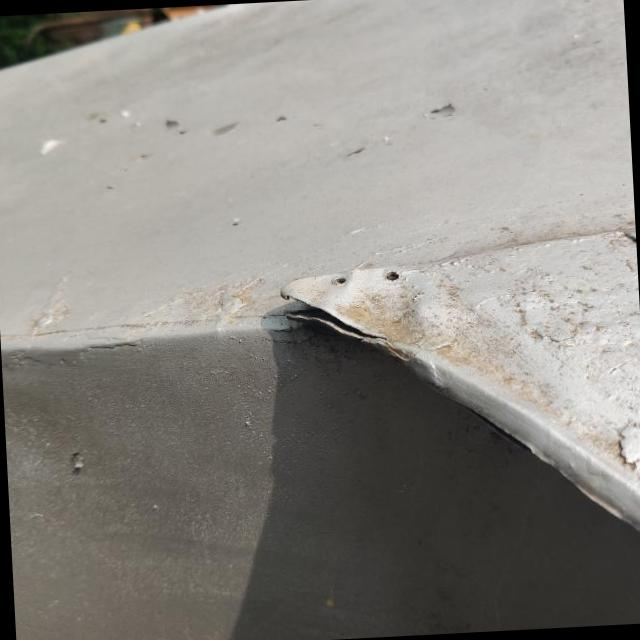Crack: (276, 301, 366, 340)
